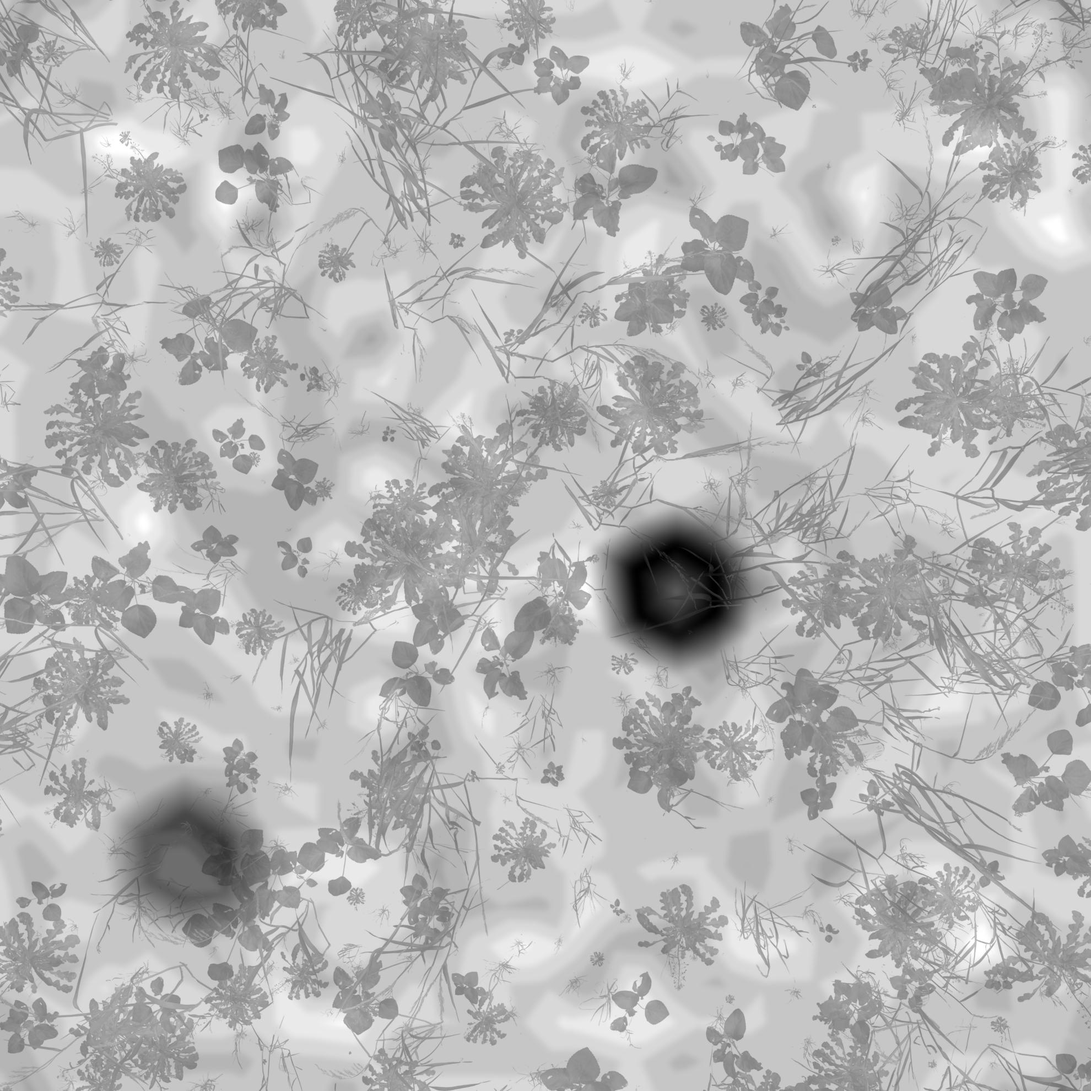landmine: (600, 511, 758, 658), (126, 798, 252, 912)
